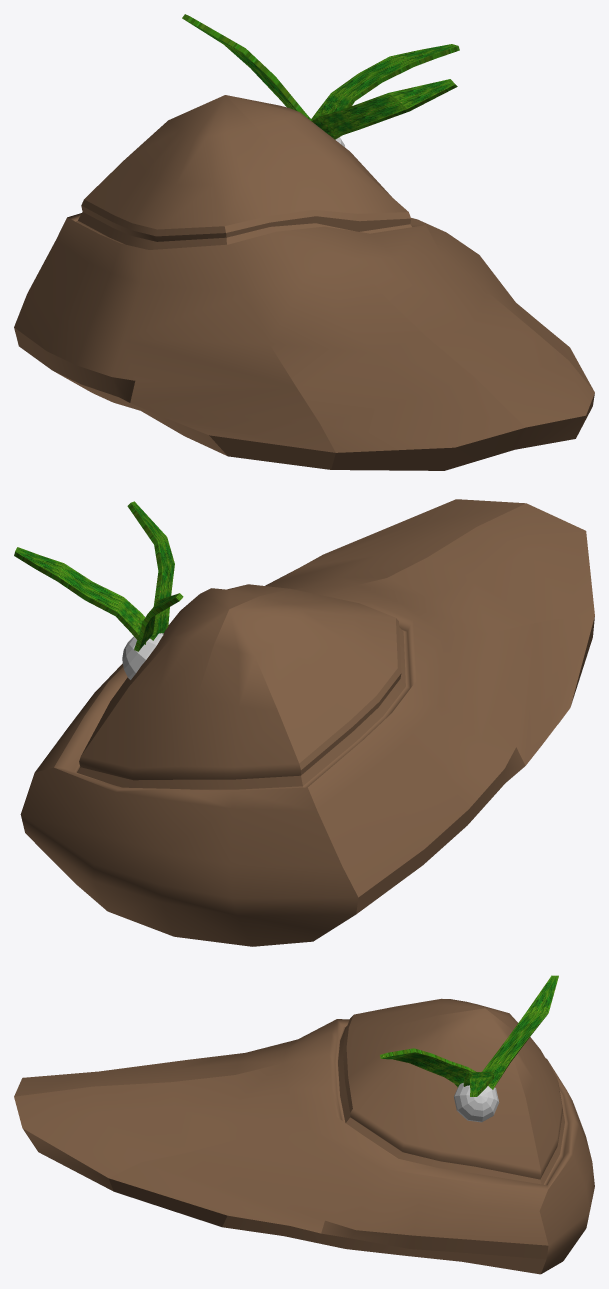
The model's file is Hat.fbx.
3 views of the same model, one above another, from view 1: azimuth 30°, elevation 25°; view 2: azimuth 150°, elevation 25°; view 3: azimuth 270°, elevation 25° (orthographic). The views are drawn at different scales.
Visible parts, largest first — view 1: polySurface274; view 2: polySurface274; view 3: polySurface274.
Part boxes in pixels (<box>): polySurface274: <box>14,14,594,470</box>; polySurface274: <box>14,499,594,946</box>; polySurface274: <box>14,975,594,1274</box>.
Bounding box in the file's own units: 15.73 × 11.95 × 23.9.
